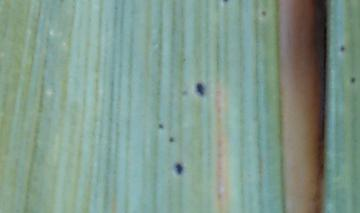tarspot: (195, 82, 205, 98), (174, 163, 184, 176), (180, 89, 190, 97), (167, 135, 175, 144), (155, 123, 165, 130), (339, 44, 346, 53), (350, 76, 357, 85), (262, 10, 268, 17), (222, 1, 229, 3)
